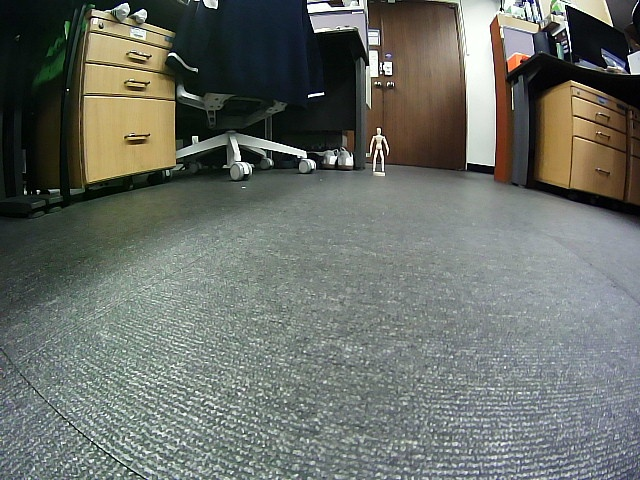person: (370, 127, 389, 171)
